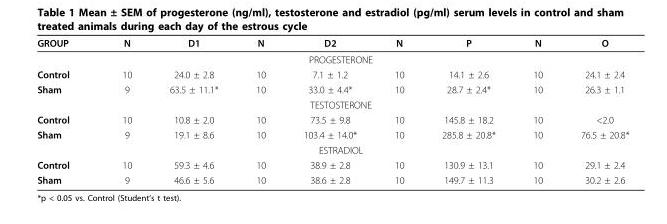table: (36, 36, 628, 185)
table column: (283, 36, 375, 185), (422, 36, 513, 185), (150, 36, 236, 185), (560, 36, 628, 185), (36, 36, 95, 185), (95, 36, 150, 185), (236, 36, 283, 185), (375, 36, 422, 185), (513, 36, 560, 185)
table column header: (36, 36, 628, 50)
table projected row header: (36, 50, 628, 66), (36, 96, 628, 111), (36, 142, 628, 156)
table row: (36, 50, 628, 66), (36, 126, 628, 142), (36, 66, 628, 81), (36, 81, 628, 96), (36, 96, 628, 111), (36, 111, 628, 126), (36, 156, 628, 171), (36, 36, 628, 50), (36, 142, 628, 156), (36, 171, 628, 185)
